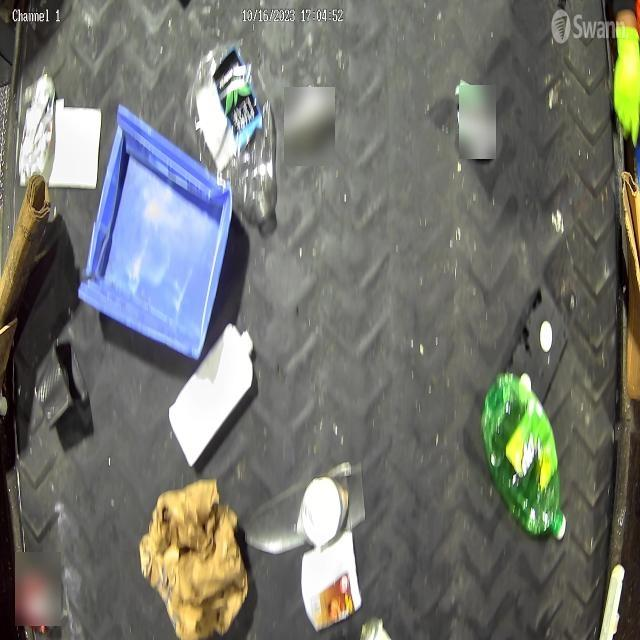milk_jug: (170, 322, 260, 460)
plastic_bottle: (183, 40, 277, 228)
